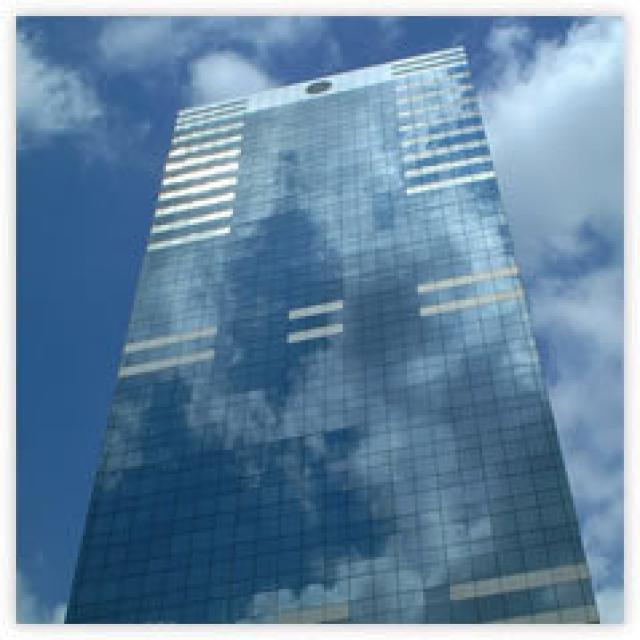building: (62, 44, 600, 625)
